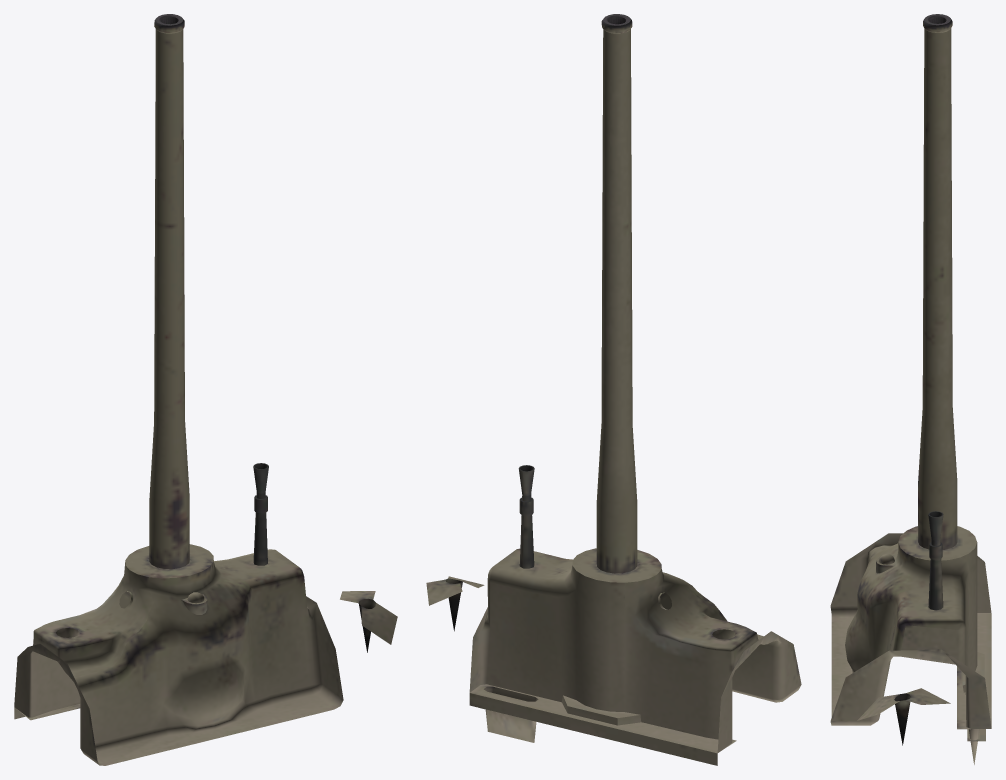
Rendered from Gun_01.glb.
3 renders of one model, left to right at view 1: azimuth 30°, elevation 25°; view 2: azimuth 150°, elevation 25°; view 3: azimuth 270°, elevation 25°, orthographic. The views are drawn at different scales.
Visible parts, largest first — view 1: set_0_group_0; view 2: set_0_group_0; view 3: set_0_group_0.
Boxes of the visible parts, bbox=[...] form: set_0_group_0: bbox=[14, 14, 397, 765]; set_0_group_0: bbox=[426, 14, 801, 765]; set_0_group_0: bbox=[830, 14, 991, 764].
Bounding box in the file's own units: 0.8217 × 1.73 × 0.3631.
1 material, 1 textured.
